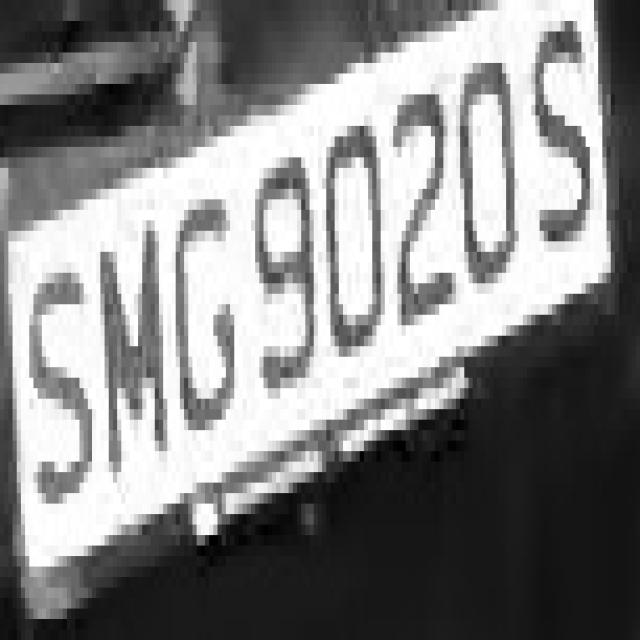0: (448, 21, 531, 325), (310, 105, 389, 388)
2: (381, 84, 460, 367)
9: (243, 136, 318, 441)
G: (167, 147, 251, 472)
M: (88, 231, 176, 514)
S: (12, 230, 108, 524), (527, 0, 598, 283)
